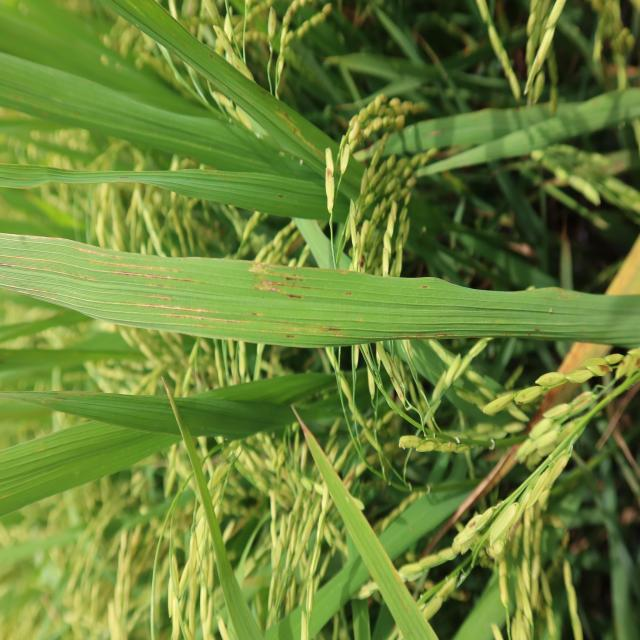Dom soc vi khuan: (1, 262, 101, 282), (248, 262, 306, 283), (162, 313, 251, 326), (87, 260, 172, 273), (112, 271, 200, 283), (253, 279, 314, 294), (276, 321, 342, 334), (137, 303, 210, 314), (0, 283, 60, 296), (1, 254, 64, 265), (73, 247, 126, 260), (141, 294, 172, 301), (147, 283, 173, 289)
